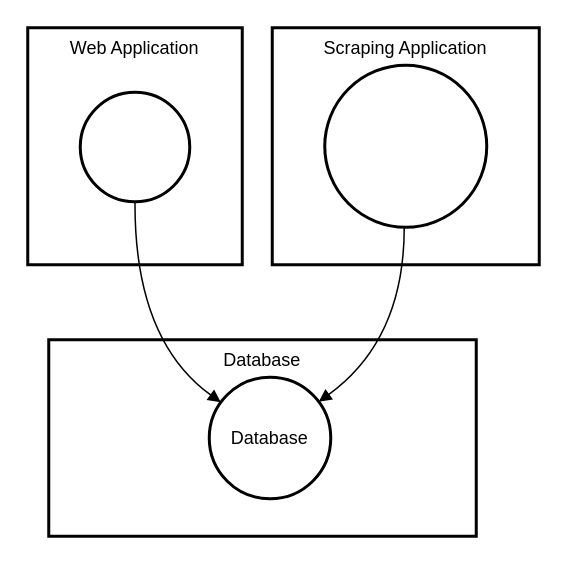
Some shapes in this 566 by 563 pixel diagram are drawn without their labels. The box of each missing label's shape, as (x1, y1, x2, y2) in pixels:
Scraping App: (322, 63, 488, 228)
Webapp: (78, 90, 190, 202)
